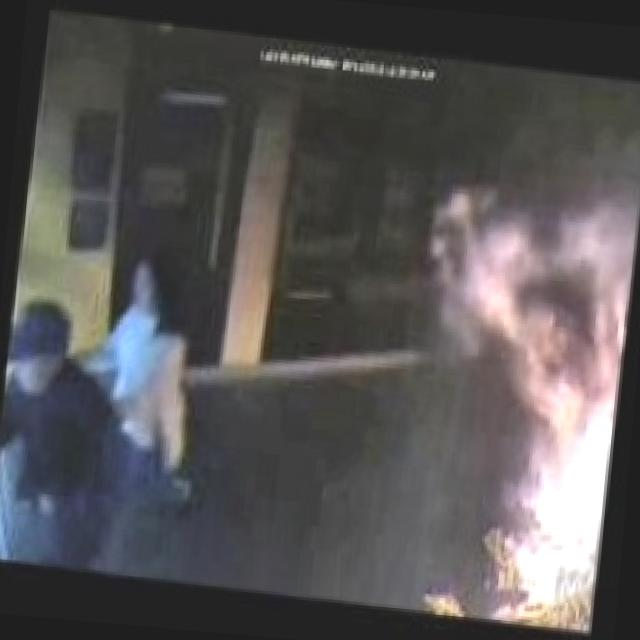fire: (399, 151, 640, 640)
